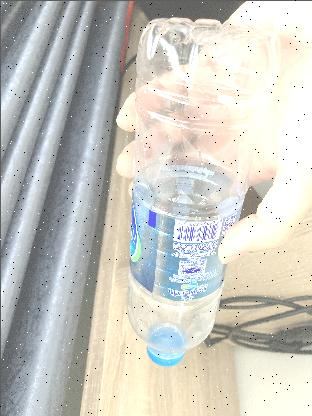Plastic Bottle: (124, 11, 280, 369)
